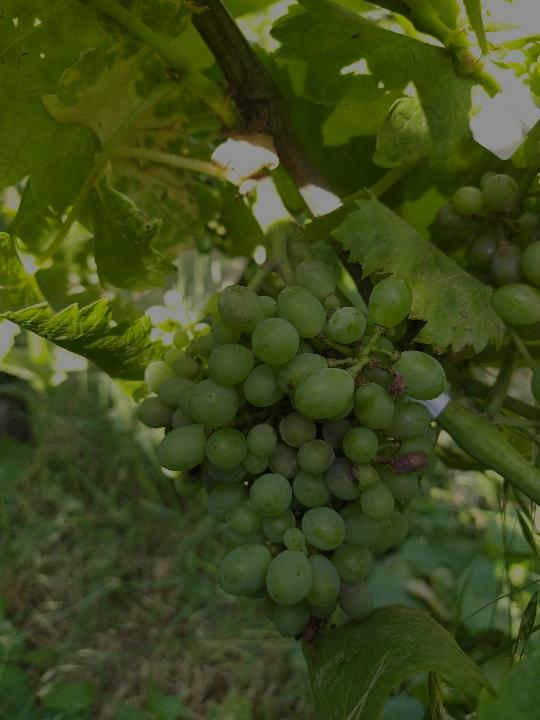grape: (130, 254, 446, 644)
